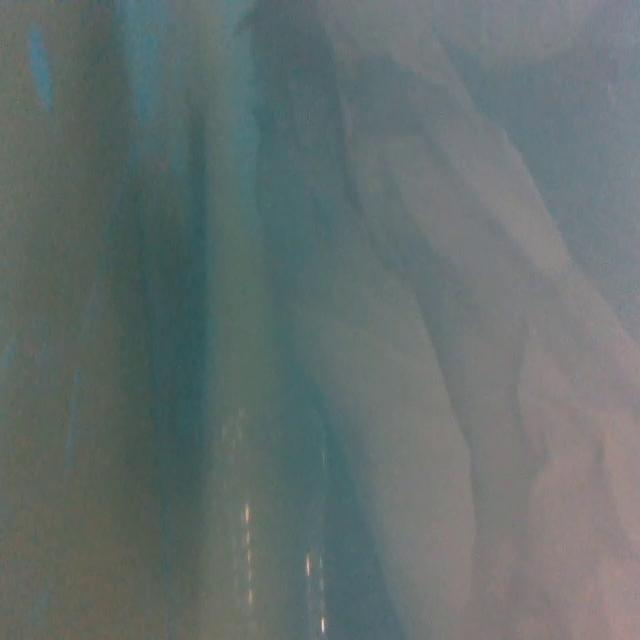plastic bags: (260, 0, 639, 632)
plastic bottle: (213, 397, 332, 640)
